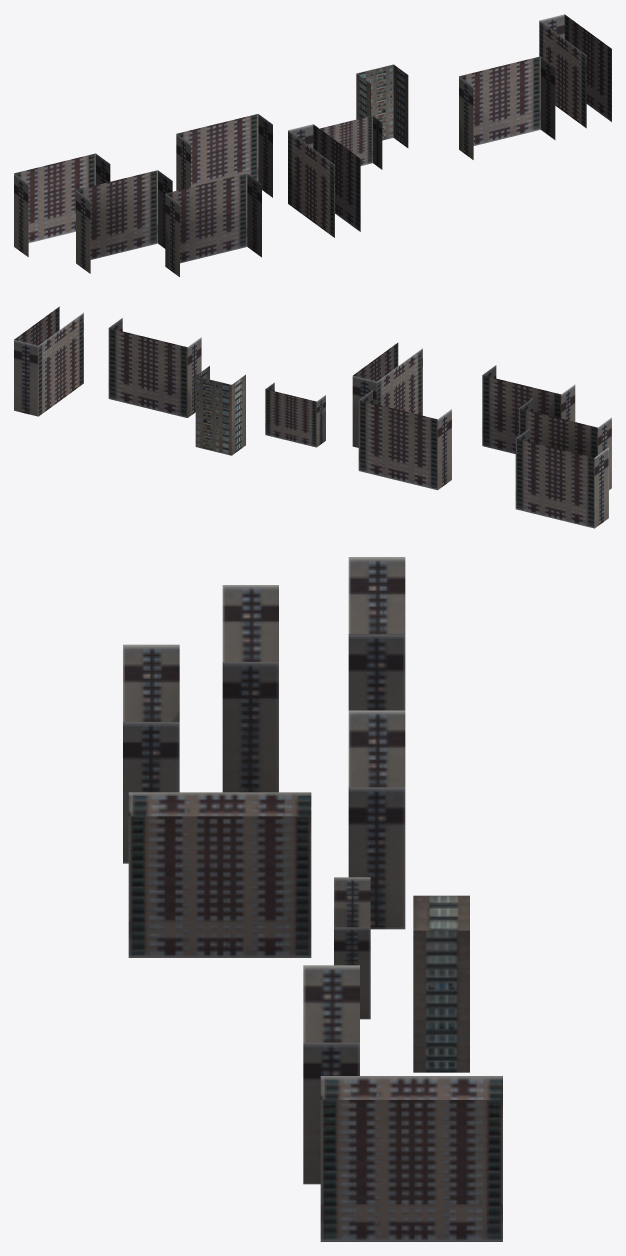
File: build_vag.fbx
3 renders of one model, top to bottom at view 1: azimuth 30°, elevation 25°; view 2: azimuth 150°, elevation 25°; view 3: azimuth 270°, elevation 25°, orthographic. The views are drawn at different scales.
Parts seen in each view (by area): view 1: build_vag; view 2: build_vag; view 3: build_vag.
Part boxes in pixels (bbox=[...]): build_vag: bbox=[14, 14, 611, 276]; build_vag: bbox=[14, 306, 611, 528]; build_vag: bbox=[123, 557, 502, 1241].
Bounding box in the file's own units: 93.79 × 11.43 × 27.73.
